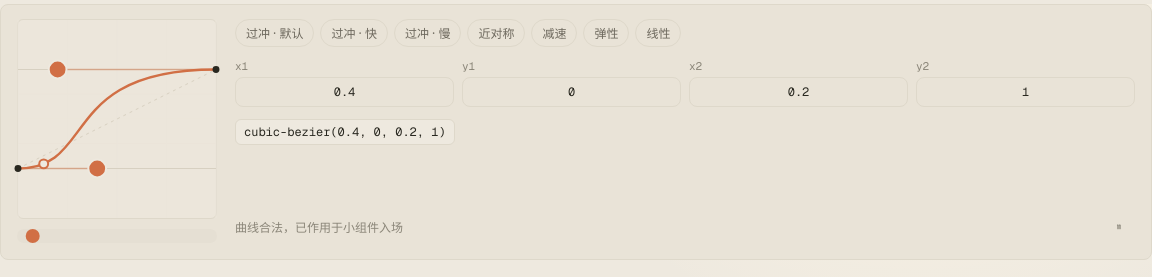
BezierCurveEditor · 数值输入 › 越界拒绝：x1 提交 2 → 状态行「X 需在 0~1 之间」，已保存值不变；改回合法值提交成功
Replace the text in the field labelled "x1" with "2": x=344, y=92 top-left (235, 77), bottom-right (454, 107)
Then press Enter
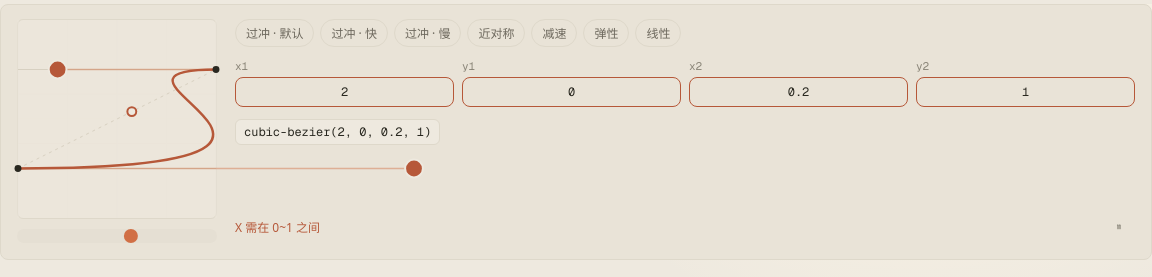
Result: the message reads "X 需在 0~1 之间" at top-left (235, 219), bottom-right (320, 236)
Replace the text in the field labelled "x1" with "0.5": x=344, y=92 top-left (235, 77), bottom-right (454, 107)
Then press Enter
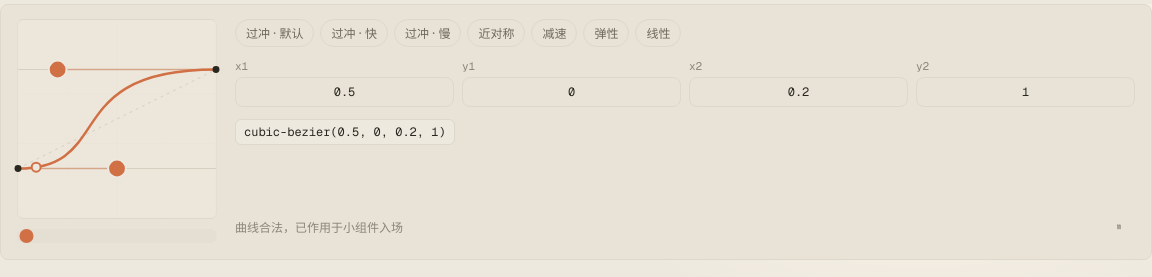
Result: the message shows "曲线合法" at top-left (235, 219), bottom-right (403, 236)
Result: the text with class "tm-bezier-css" reads "cubic-bezier(0.5, 0, 0.2, 1)" at top-left (244, 124), bottom-right (446, 140)
